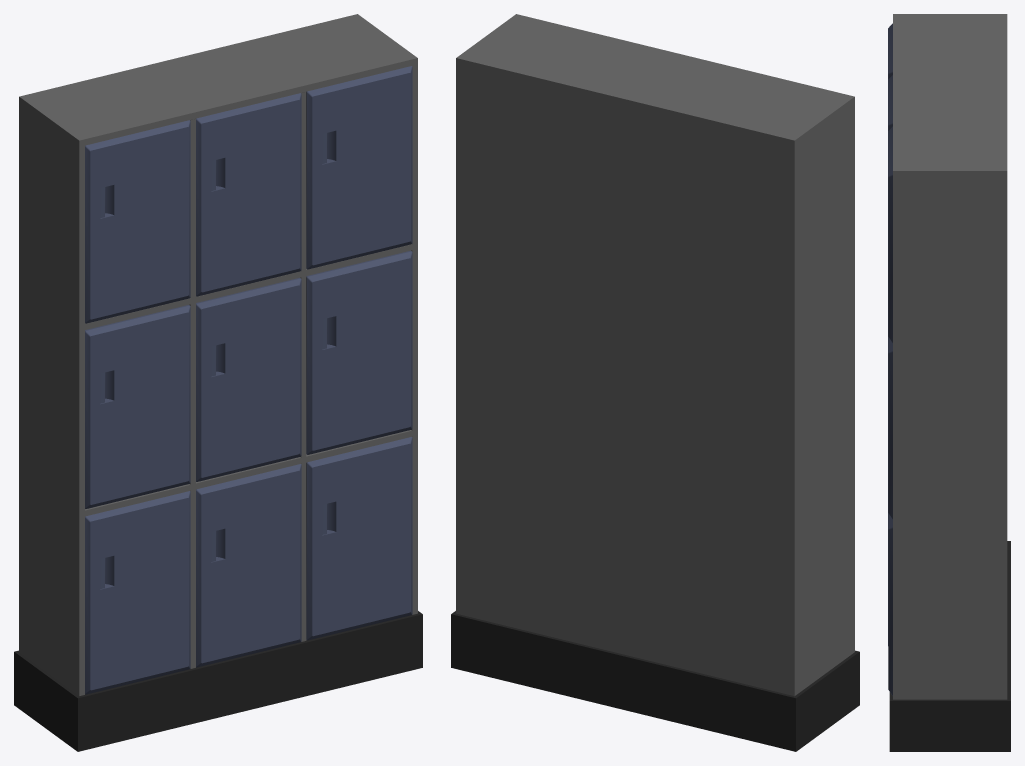
Rendered from long_cabinet.fbx.
The picture shows the model from 3 angles, left to right: view 1: azimuth 30°, elevation 25°; view 2: azimuth 150°, elevation 25°; view 3: azimuth 270°, elevation 25°; orthographic projection. The views are drawn at different scales.
Visible parts, largest first — view 1: Cube.003, Cube.001, Cube.002; view 2: Cube.001; view 3: Cube.001, Cube.003.
Part boxes in pixels (<box>): Cube.003: <box>85,66,412,694</box>; Cube.001: <box>14,14,422,751</box>; Cube.002: <box>85,92,412,668</box>; Cube.001: <box>451,14,859,751</box>; Cube.001: <box>889,14,1010,751</box>; Cube.003: <box>888,23,892,695</box>.
Bounding box in the file's own units: 1060 × 1788 × 343.
